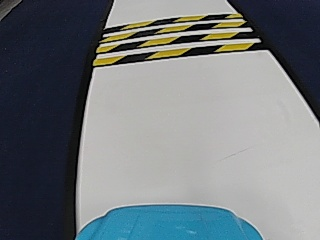bump: (111, 14, 238, 67)
